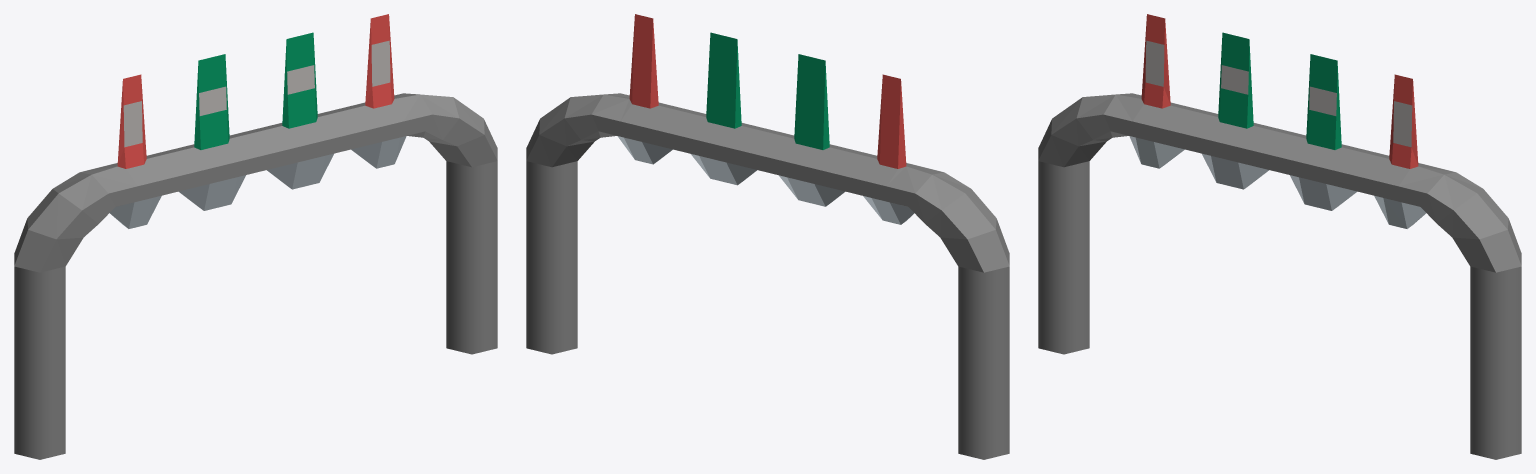
File: BarraServidor.fbx
3 renders of one model, left to right at view 1: azimuth 30°, elevation 25°; view 2: azimuth 150°, elevation 25°; view 3: azimuth 330°, elevation 25°, orthographic.
Visible parts, largest first — view 1: BarraServidor_LOD00; view 2: BarraServidor_LOD00; view 3: BarraServidor_LOD00.
Part boxes in pixels (<box>): BarraServidor_LOD00: <box>14,14,497,459</box>; BarraServidor_LOD00: <box>526,14,1009,459</box>; BarraServidor_LOD00: <box>1038,14,1521,459</box>.
Size of what is drawn, in the model's own units: 46.07 by 31.7 by 4.88.
